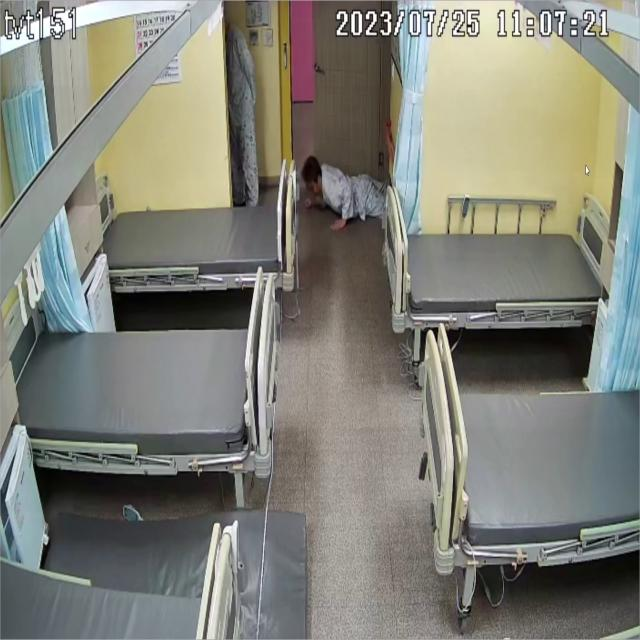bed: (420, 324, 640, 569), (14, 318, 278, 470), (382, 213, 616, 332), (105, 192, 294, 290)
fall: (302, 152, 392, 233)
patient: (301, 151, 393, 233), (227, 18, 260, 205)
